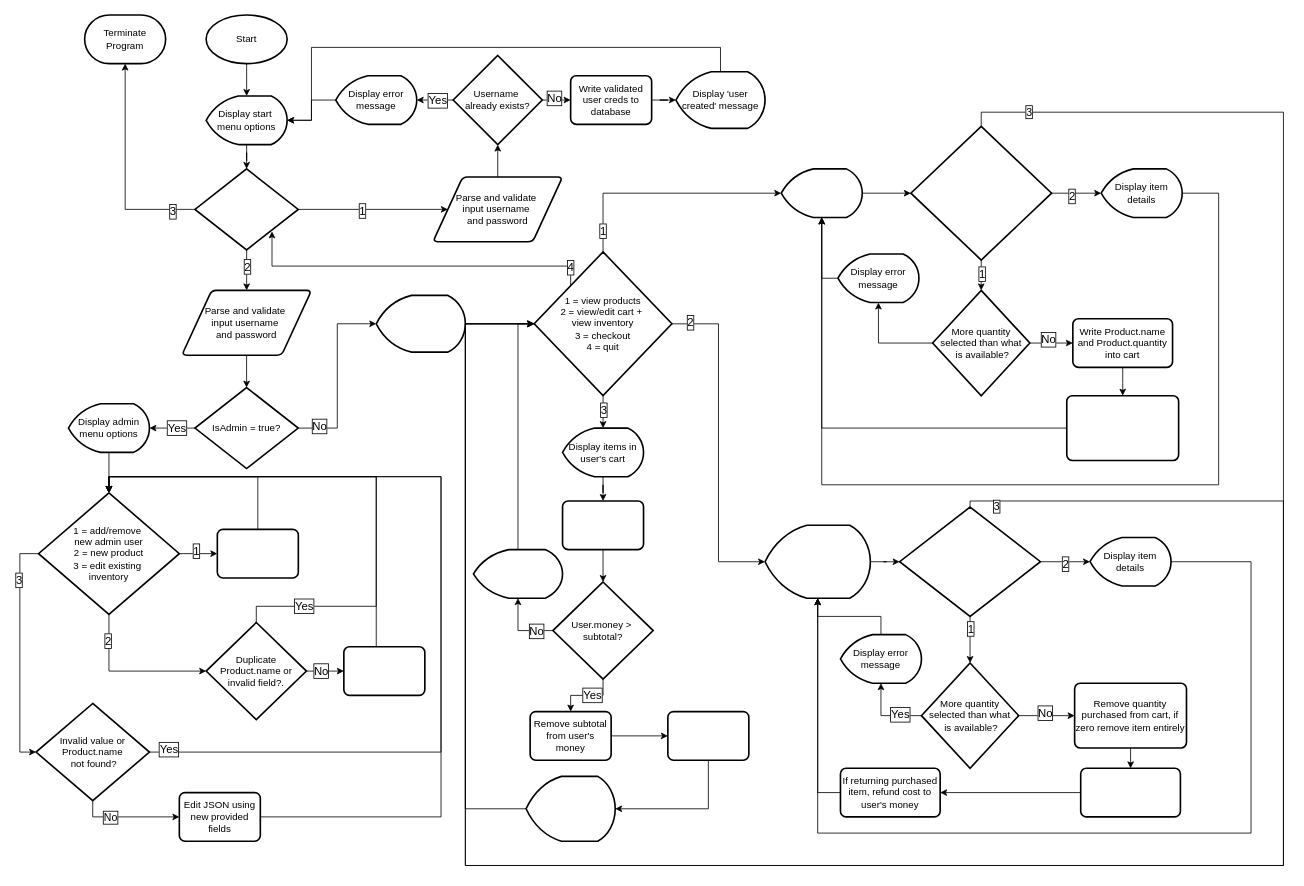
Some shapes in this 1304 by 886 pixel diagram are drawn without their labels. The shapes that lost their labels are listed below. From the top down, each one's centre as x and y in pixels, then its label:
(x=246, y=209): 1 = create user 2 = sign in 3 = quit
(x=821, y=193): Display store inventory
(x=981, y=192): 1 = add selected item to cart 2 = view item details 3 = quit
(x=420, y=323): Display signed in user menu
(x=1122, y=427): Remove quantity purchased from store inventory, if zero remove product entirely.
(x=602, y=525): Calculate price for each item * quantity and subtotal
(x=257, y=553): Search JSON, edit admin flag for given username.
(x=517, y=573): Display error, user must remove items
(x=817, y=561): Display user's cart, total money, and inventory
(x=969, y=561): 1 = return selected item 2 = view item details 3 = quit
(x=384, y=671): Insert JSON with new product using provided fields
(x=708, y=735): Append all purchases to user's inventory
(x=570, y=808): Display user's inventory and new money total
(x=1130, y=792): Write Product.name and Product.quantity back into store inventory
